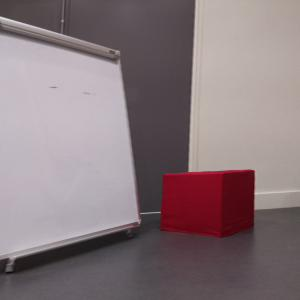big: (1, 20, 141, 263)
medium: (159, 170, 256, 236)
